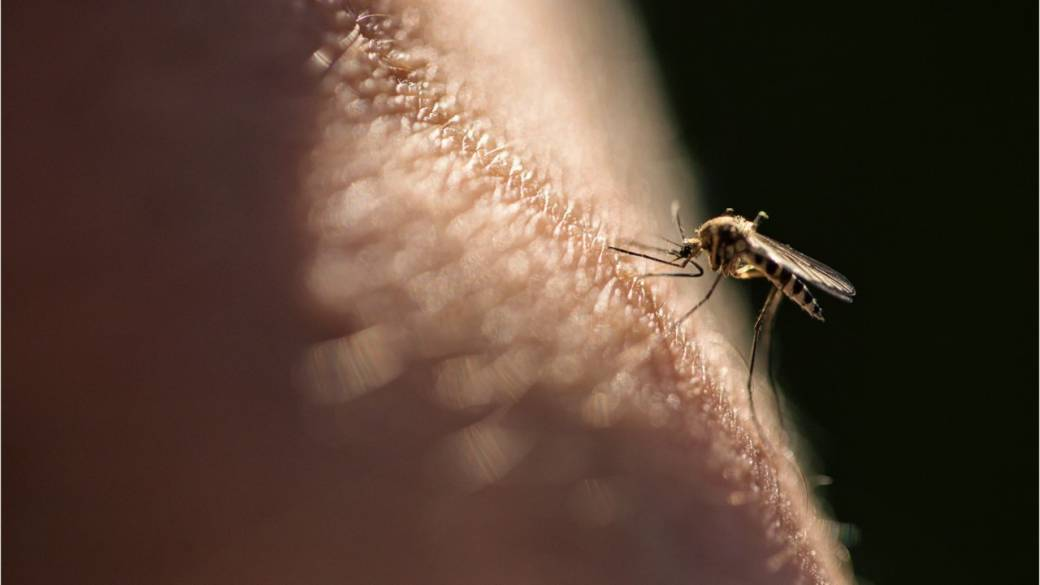dengue_mosquito: (610, 200, 857, 357)
